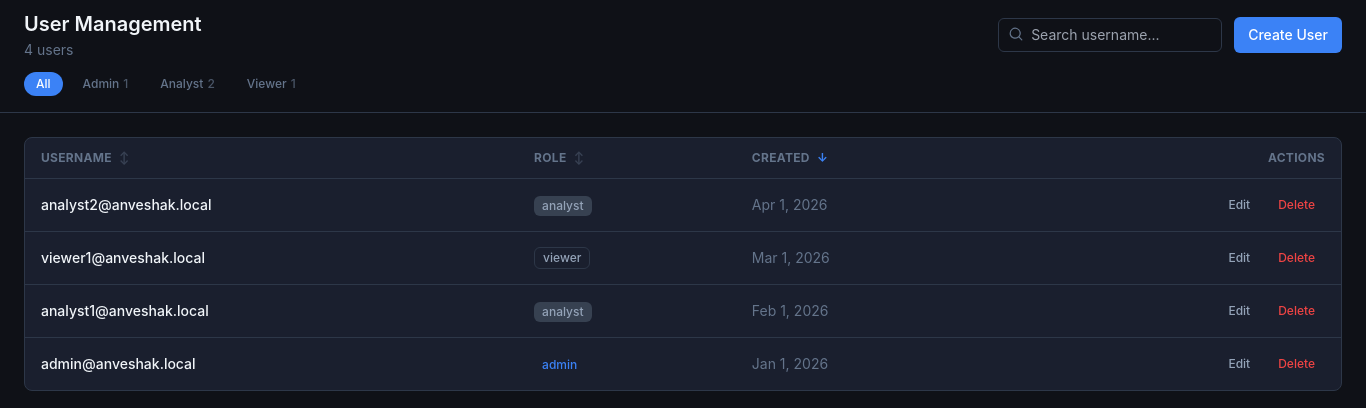
Test: UserManagement page › filters by role when chip clicked
Expected: the text "admin@anveshak.local" is shown, [25,338,518,390]
// Click Viewer chip
Click the button "Viewer1". click: (271, 84)
box: [235,72,308,96]
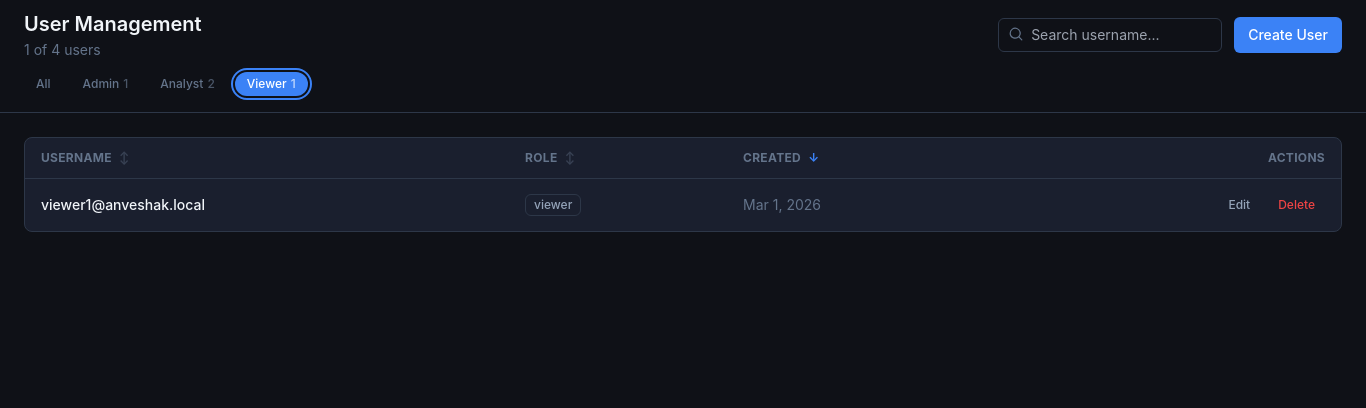
Expected: the text "viewer1@anveshak.local" is shown, [25,178,509,231]
Expected: the text "admin@anveshak.local" is gone
Expected: the text "analyst1@anveshak.local" is gone
